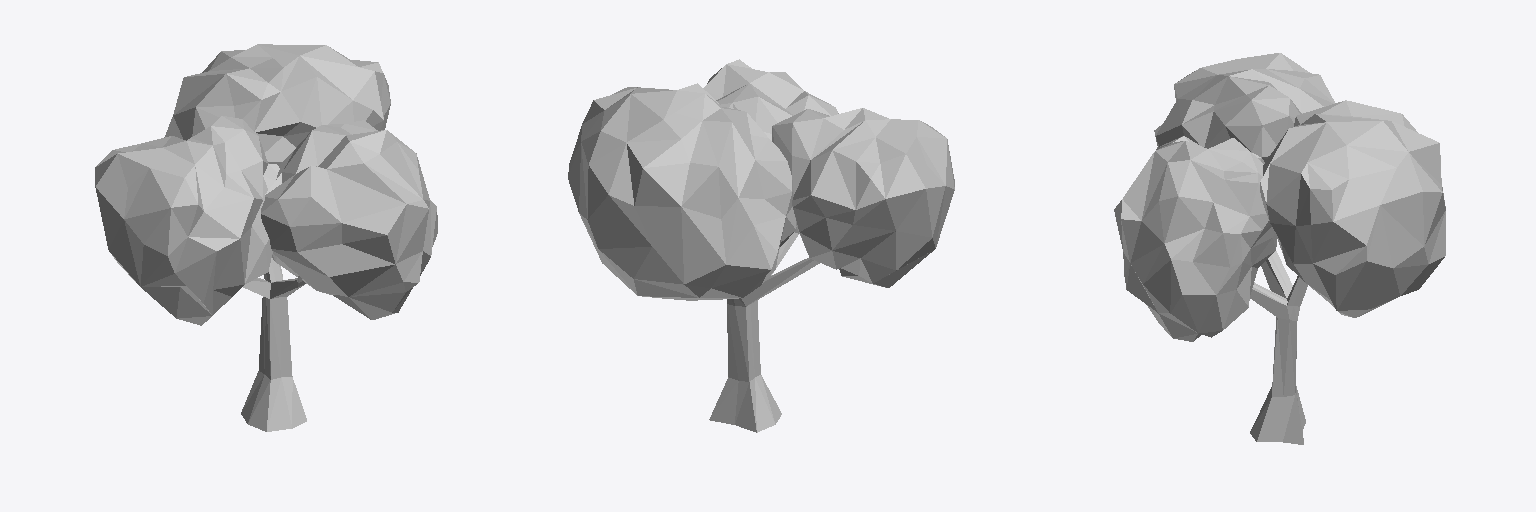
The model's file is tree.obj.
3 views of the same model, side by side, from view 1: azimuth 30°, elevation 25°; view 2: azimuth 150°, elevation 25°; view 3: azimuth 270°, elevation 25° (orthographic).
Parts seen in each view (by area): view 1: Tree_average_lush_Cube.004; view 2: Tree_average_lush_Cube.004; view 3: Tree_average_lush_Cube.004.
Part boxes in pixels (bbox=[...]): Tree_average_lush_Cube.004: bbox=[95, 44, 437, 431]; Tree_average_lush_Cube.004: bbox=[568, 59, 954, 432]; Tree_average_lush_Cube.004: bbox=[1114, 53, 1445, 444].
Bounding box in the file's own units: 14.67 × 14.66 × 13.24.